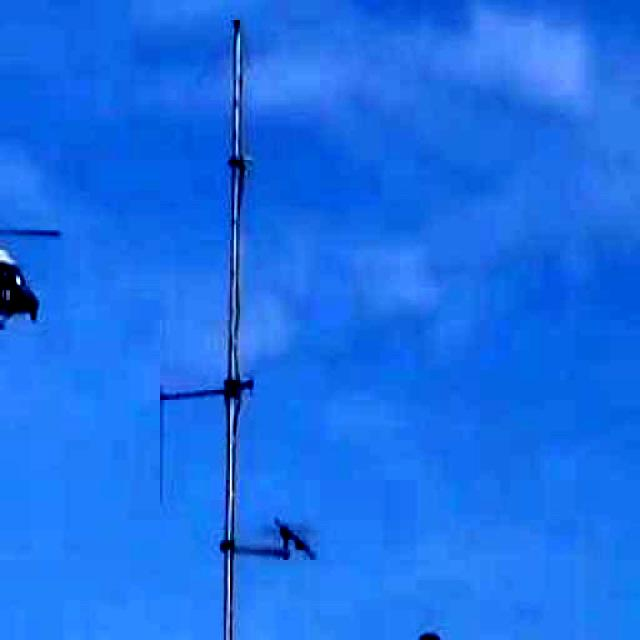drone: (0, 124, 79, 404)
